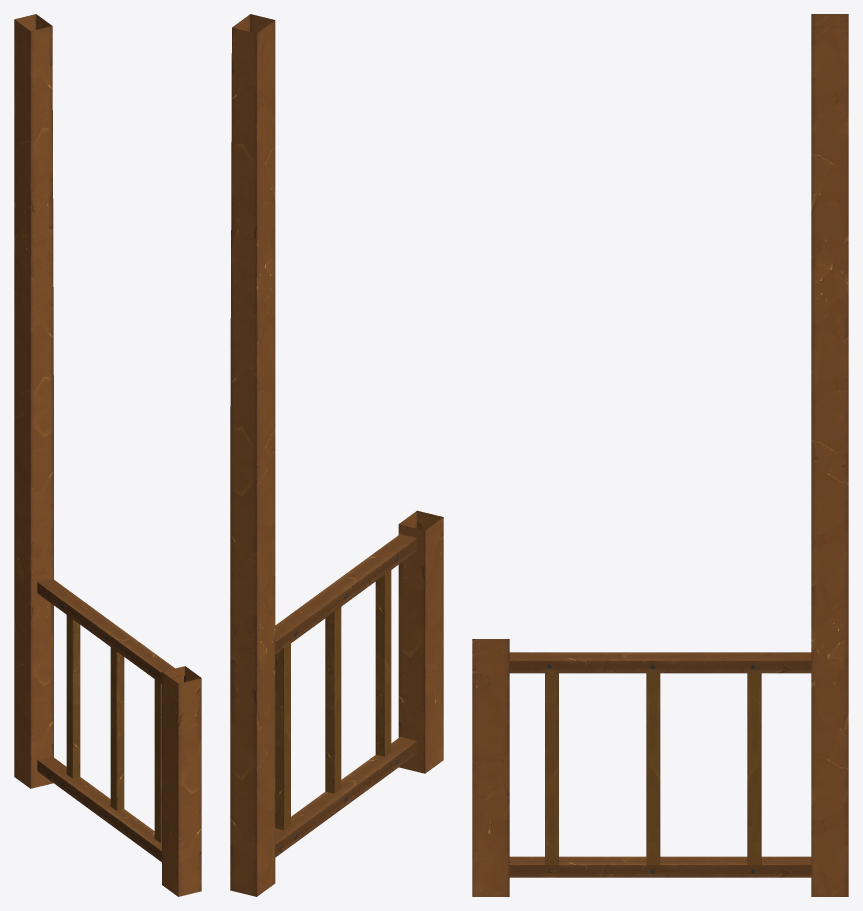
Rendered from Wall Parts.obj.
The picture shows the model from 3 angles, left to right: view 1: azimuth 30°, elevation 25°; view 2: azimuth 150°, elevation 25°; view 3: azimuth 270°, elevation 25°; orthographic projection. The views are drawn at different scales.
Visible parts, largest first — view 1: Wall_Parts; view 2: Wall_Parts; view 3: Wall_Parts.
Part boxes in pixels (<box>): Wall_Parts: <box>14,14,201,896</box>; Wall_Parts: <box>230,14,443,896</box>; Wall_Parts: <box>472,14,848,896</box>.
Size of the model in its own units: 0.6096 by 18.96 by 7.44.
